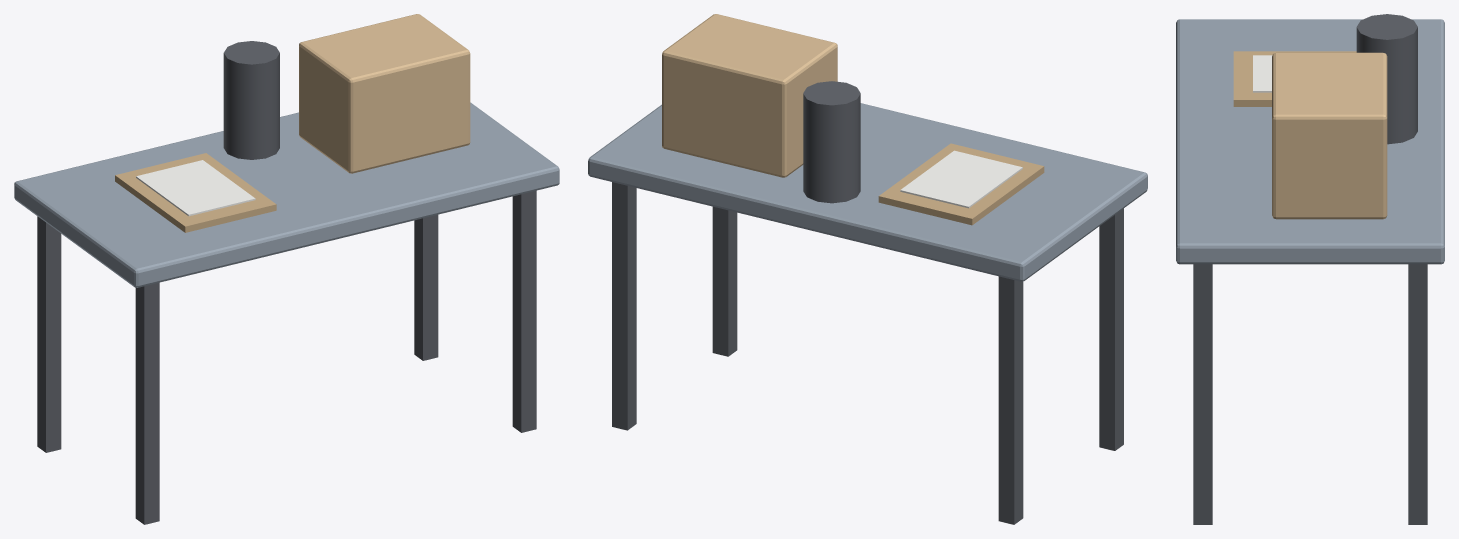
The model's file is MesaControl.fbx.
The picture shows the model from 3 angles, left to right: view 1: azimuth 30°, elevation 25°; view 2: azimuth 150°, elevation 25°; view 3: azimuth 270°, elevation 25°; orthographic projection. The views are drawn at different scales.
Visible parts, largest first — view 1: Cuerpo; view 2: Cuerpo; view 3: Cuerpo.
Part boxes in pixels (x1,y1,x2,y2): Cuerpo: (14,14,559,524); Cuerpo: (588,14,1147,524); Cuerpo: (1176,14,1444,524).
Bounding box in the file's own units: 1.4 × 1.13 × 0.7.
